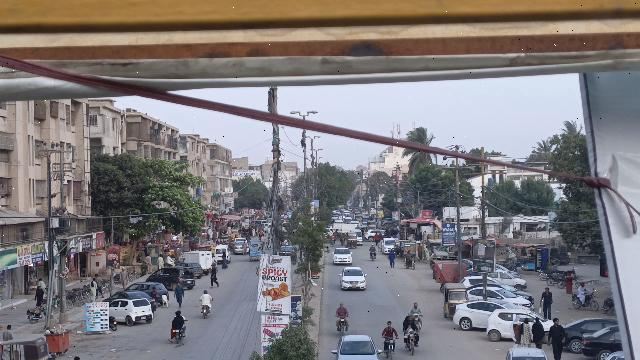Bike: (569, 293, 599, 312), (380, 334, 398, 360), (405, 329, 419, 355), (335, 314, 349, 335), (172, 325, 185, 347), (412, 312, 424, 331), (200, 303, 211, 321)
Car: (452, 298, 508, 334), (580, 321, 620, 358), (330, 333, 382, 360), (147, 266, 197, 292), (109, 299, 153, 325), (483, 309, 515, 342), (339, 265, 368, 293)
Person: (546, 317, 567, 360), (537, 284, 555, 318), (530, 316, 546, 347), (509, 314, 522, 347), (401, 311, 418, 333), (86, 277, 99, 304), (521, 317, 532, 348), (576, 279, 589, 305), (383, 320, 398, 341), (170, 307, 185, 326), (200, 287, 214, 307), (209, 264, 220, 289), (337, 299, 348, 319), (410, 302, 421, 316)
Rickshaw: (441, 281, 470, 320)
Truck: (180, 250, 212, 276)
